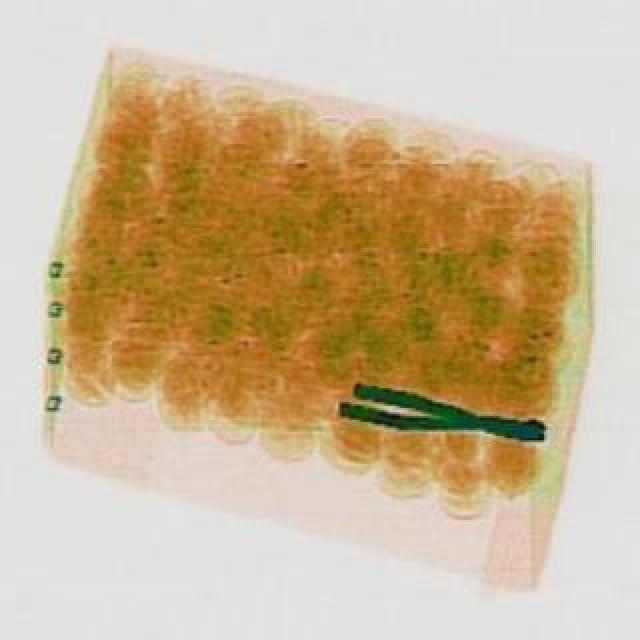wrench: (336, 386, 548, 456)
